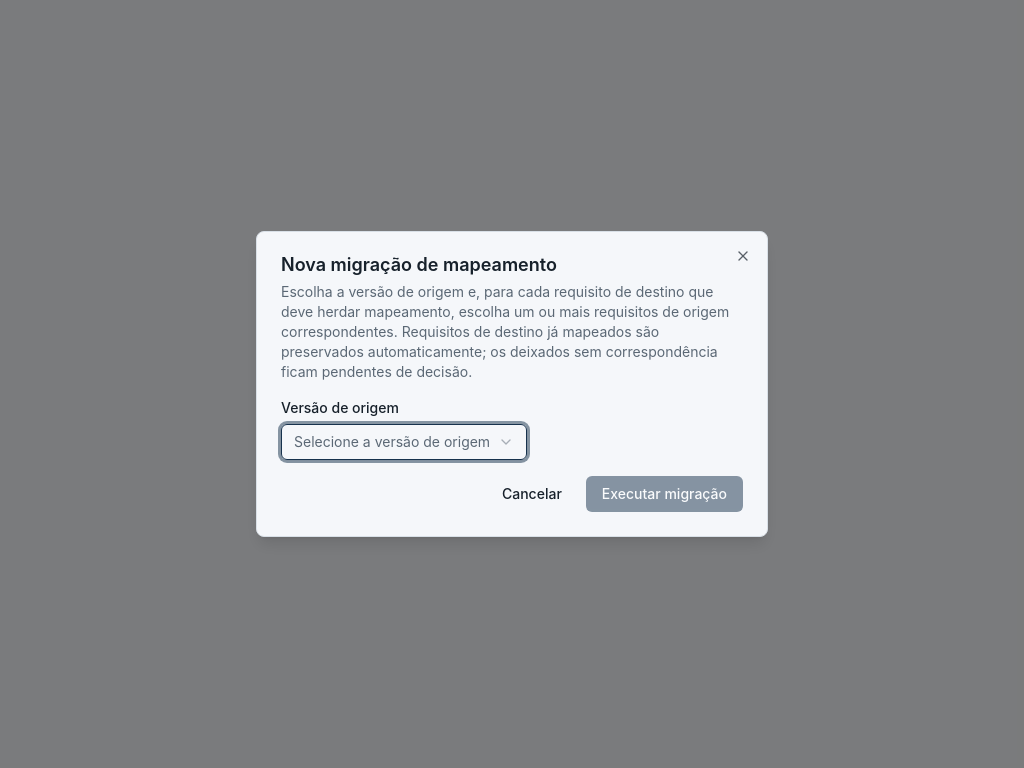
Test case: MappingMigrationDialog › never proposes a correspondence itself — the target starts with the "pending" hint until a source is chosen
Click the dropdown labelled "versão de origem". click: click(404, 442)
box: [281,424,527,460]
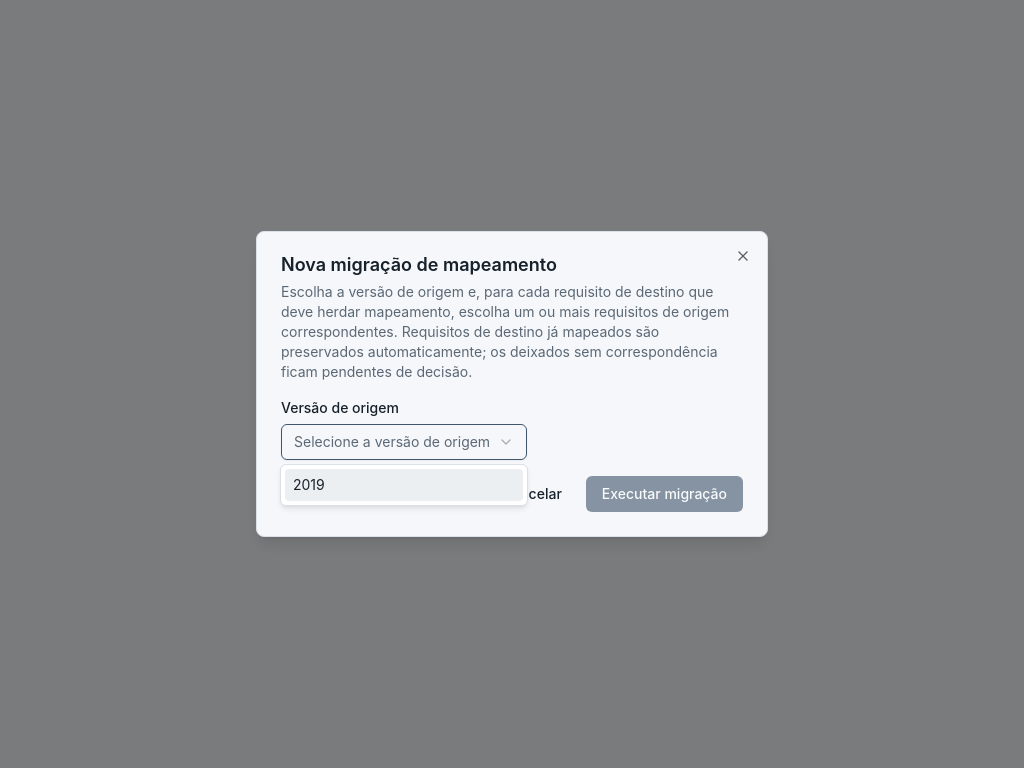
Click the option "2019". click: click(404, 485)
box: [285,469,523,501]
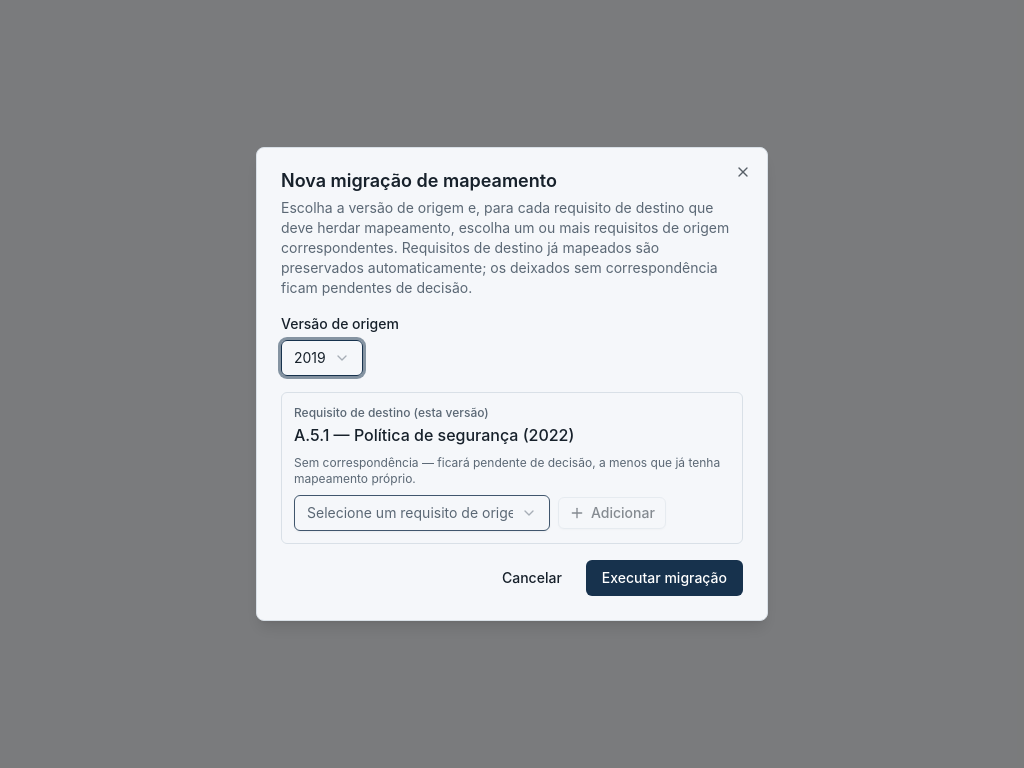
Expected: the text "A.5.1 — Política de segurança (2022)" is shown, [294,425,574,445]
Expected: the text "Sem correspondência — ficará pendente de decisão" is shown, [294,455,720,486]
